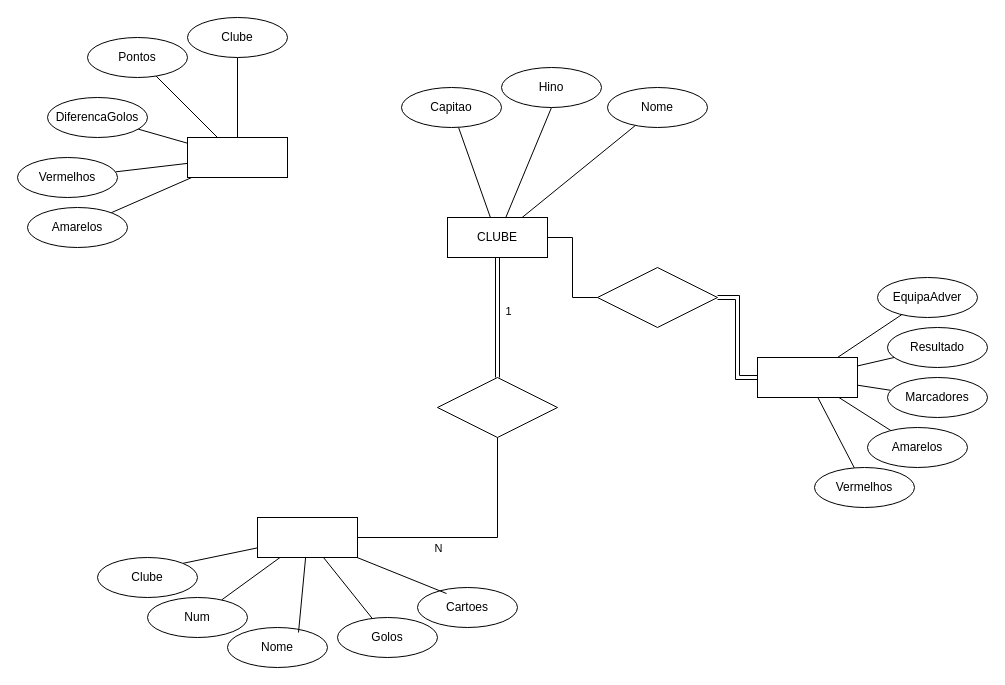
The diagram is 1005 pixels wide and 685 high, and some of its shapes have lost their labels. Here are the shapes that lost their labels. From the top down, the centre of each, then its label:
[237,157]: TABELA
[657,297]: JOGOU
[807,377]: JOGOS
[497,407]: FAZ_PARTE
[307,537]: JOGADORES
